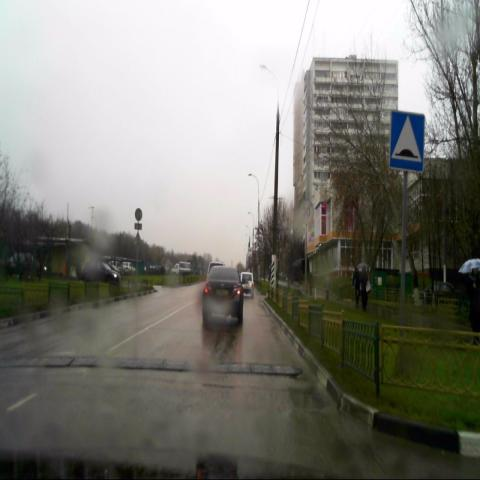3_25: (299, 200, 313, 225)
